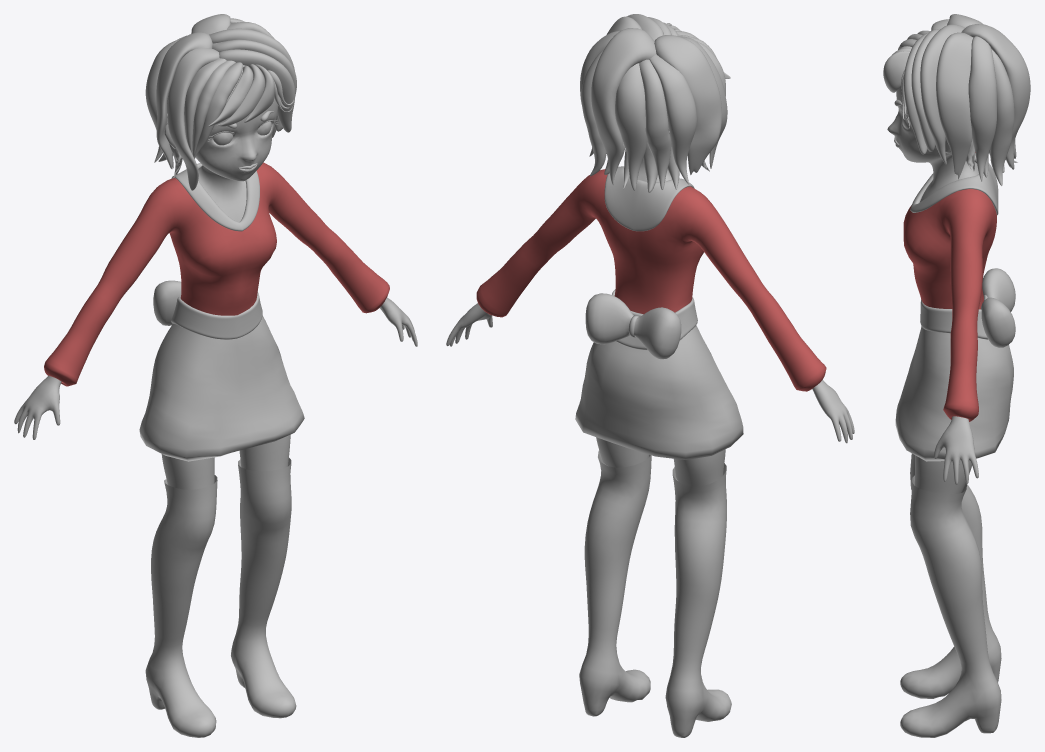
The model's file is MC_Eskra.fbx.
3 renders of one model, left to right at view 1: azimuth 30°, elevation 25°; view 2: azimuth 150°, elevation 25°; view 3: azimuth 270°, elevation 25°, orthographic.
Visible parts, largest first — view 1: MC_boots, MC_topcloth, MC_skirt, MC_body, MC_hair, MC_bangs, MC_waistband, MC_topacc, MC_ribbon; view 2: MC_boots, MC_topcloth, MC_hair, MC_skirt, MC_body, MC_ribbon, MC_topacc, MC_basehair, MC_waistband; view 3: MC_boots, MC_hair, MC_topcloth, MC_skirt, MC_body, MC_ribbon, MC_topacc, MC_bangs, MC_waistband, MC_basehair.
Part boxes in pixels (x1=…): MC_boots: x1=145, y1=458, x2=296, y2=737; MC_topcloth: x1=44, y1=162, x2=389, y2=386; MC_skirt: x1=139, y1=316, x2=304, y2=461; MC_body: x1=14, y1=74, x2=417, y2=489; MC_hair: x1=145, y1=14, x2=296, y2=190; MC_bangs: x1=184, y1=58, x2=294, y2=158; MC_waistband: x1=171, y1=291, x2=262, y2=339; MC_topacc: x1=171, y1=163, x2=259, y2=231; MC_ribbon: x1=153, y1=280, x2=181, y2=325; MC_boots: x1=579, y1=450, x2=731, y2=737; MC_topcloth: x1=476, y1=169, x2=826, y2=391; MC_hair: x1=580, y1=14, x2=727, y2=190; MC_skirt: x1=575, y1=325, x2=743, y2=459; MC_body: x1=446, y1=159, x2=854, y2=486; MC_ribbon: x1=585, y1=293, x2=681, y2=359; MC_topacc: x1=604, y1=166, x2=694, y2=231; MC_basehair: x1=604, y1=129, x2=709, y2=192; MC_waistband: x1=612, y1=289, x2=697, y2=350; MC_boots: x1=900, y1=453, x2=1001, y2=737; MC_hair: x1=903, y1=14, x2=1030, y2=185; MC_topcloth: x1=903, y1=152, x2=996, y2=421; MC_skirt: x1=895, y1=326, x2=1013, y2=461; MC_body: x1=887, y1=87, x2=978, y2=493; MC_ribbon: x1=981, y1=268, x2=1015, y2=347; MC_topacc: x1=910, y1=153, x2=998, y2=215; MC_bangs: x1=883, y1=30, x2=930, y2=119; MC_waistband: x1=920, y1=295, x2=987, y2=339; MC_basehair: x1=966, y1=139, x2=1017, y2=177.
Bounding box in the file's own units: 128 × 212 × 40.92.
